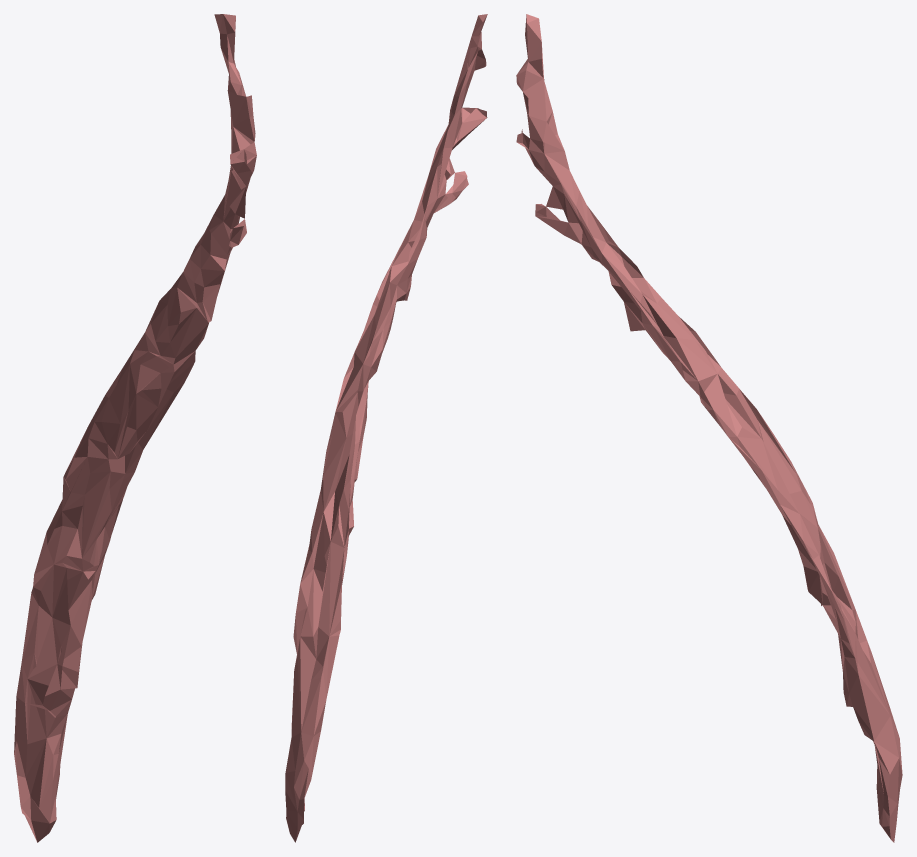
File: Longissimus_colli_muscle.l.glb
The picture shows the model from 3 angles, left to right: view 1: azimuth 30°, elevation 25°; view 2: azimuth 150°, elevation 25°; view 3: azimuth 270°, elevation 25°; orthographic projection. The views are drawn at different scales.
Visible parts, largest first — view 1: Longissimus_colli_muscle.l; view 2: Longissimus_colli_muscle.l; view 3: Longissimus_colli_muscle.l.
Part boxes in pixels (x1,y1,x2,y2): Longissimus_colli_muscle.l: (14,14,256,842); Longissimus_colli_muscle.l: (285,14,487,842); Longissimus_colli_muscle.l: (516,14,902,842).
Size of the model in its own units: 0.0169 by 0.1861 by 0.0802.
